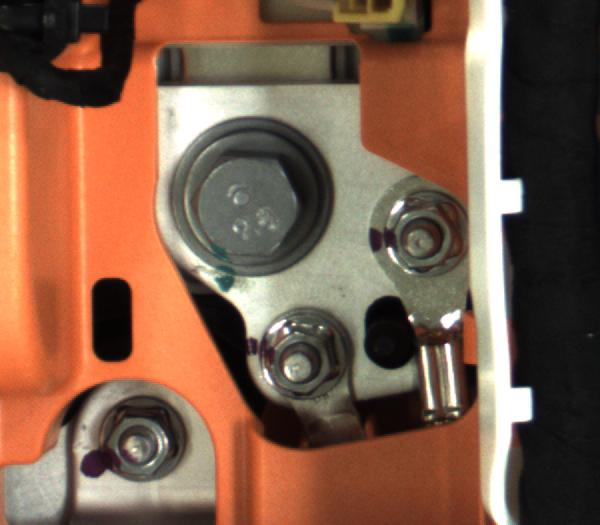nut_b: (153, 118, 331, 297)
screw_s: (239, 310, 347, 402), (86, 405, 192, 487), (365, 202, 471, 280)
